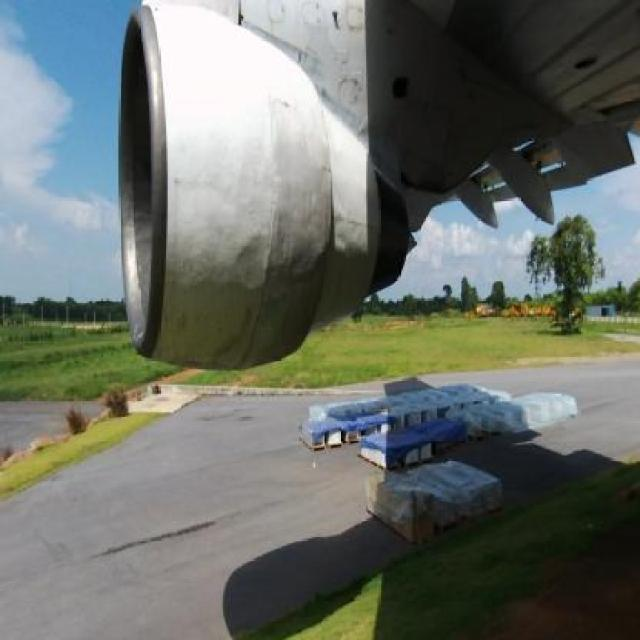Scartch: (270, 125, 328, 292), (173, 295, 302, 367)
